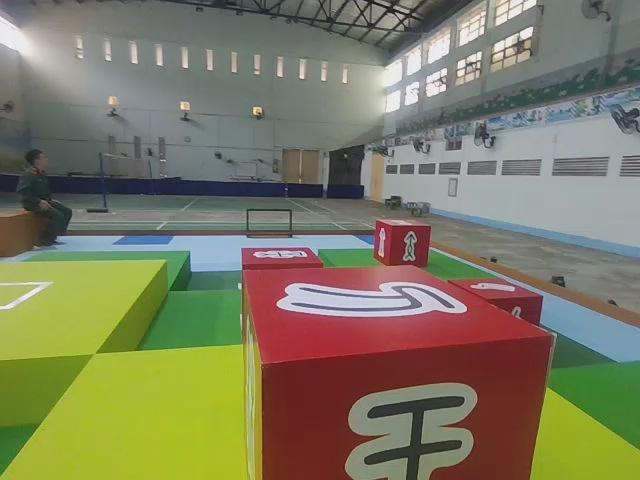R2 Fake: (241, 269, 555, 480)
R2 Real: (371, 216, 435, 268)
